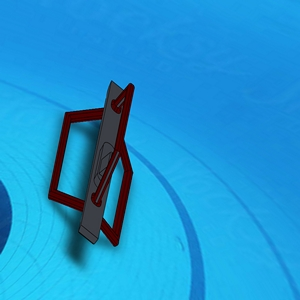submarine: (53, 80, 134, 249)
